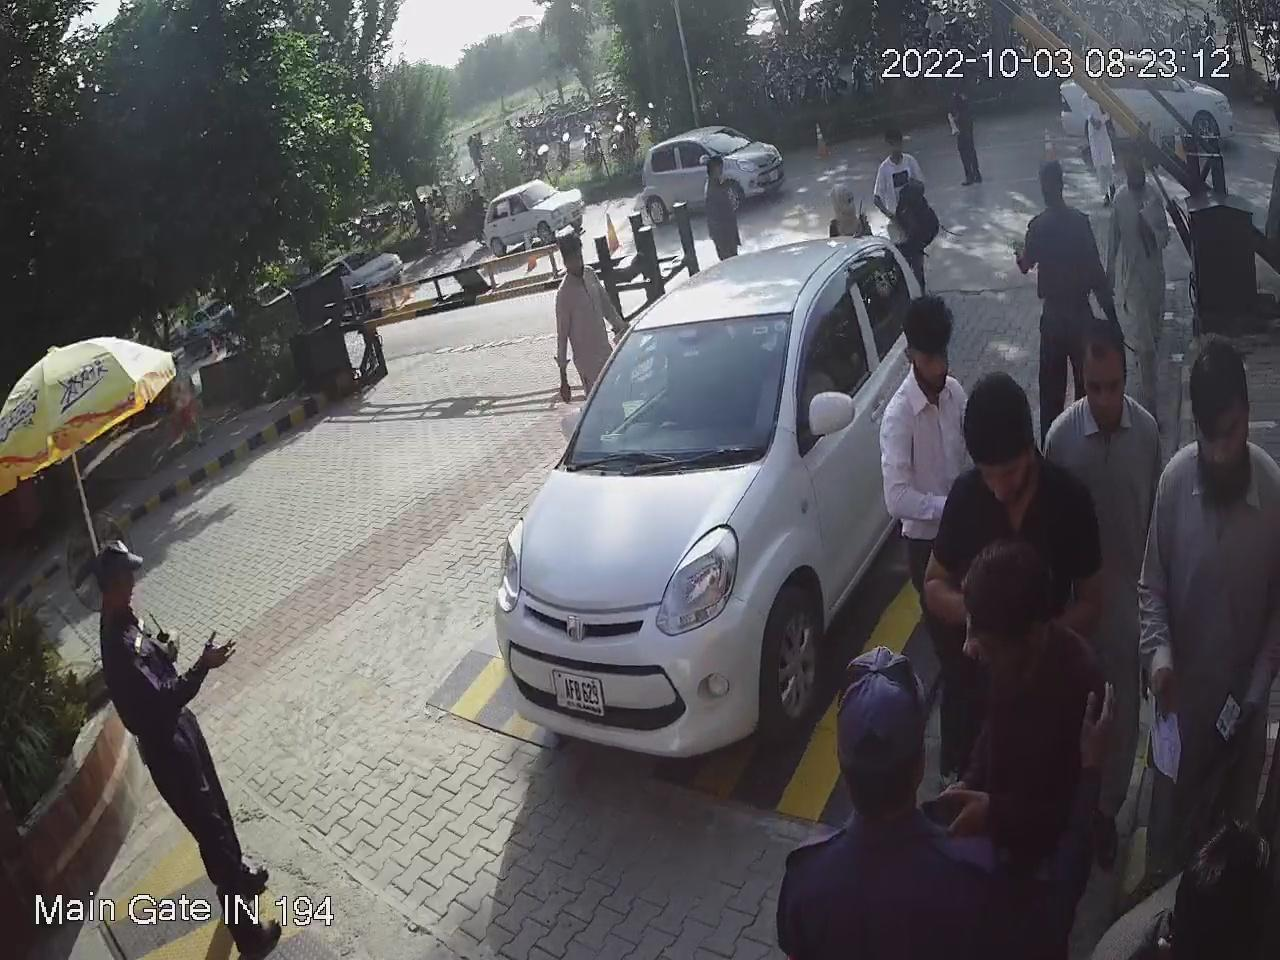windshield: (555, 308, 795, 463)
